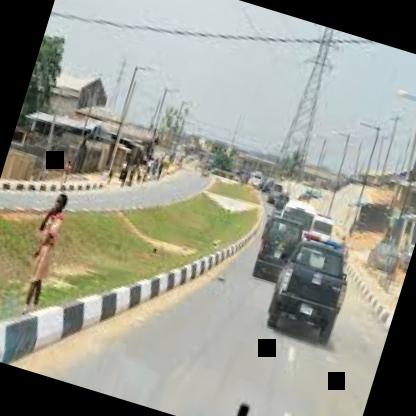car: (256, 216, 366, 364), (240, 206, 324, 312)
